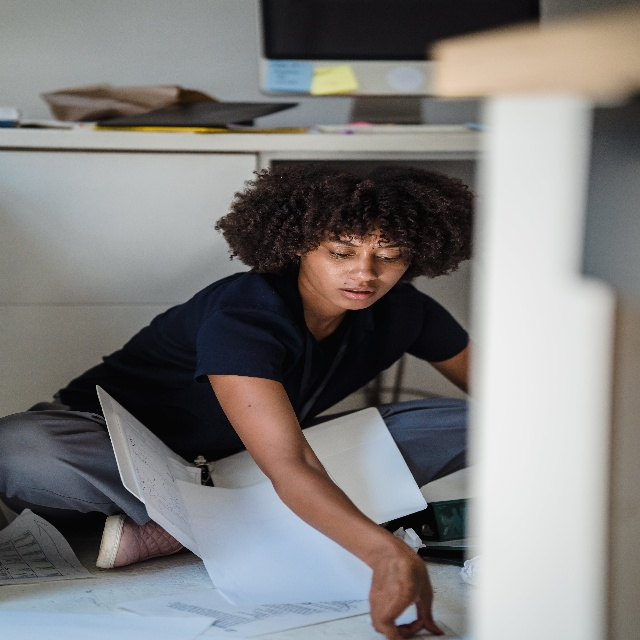Sin_guantes: (368, 539, 444, 640)
